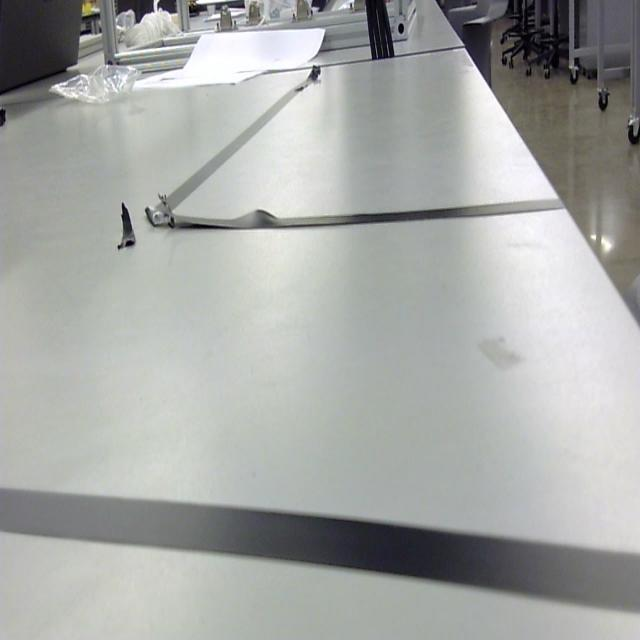tape: (0, 487, 640, 616), (144, 62, 567, 232)
